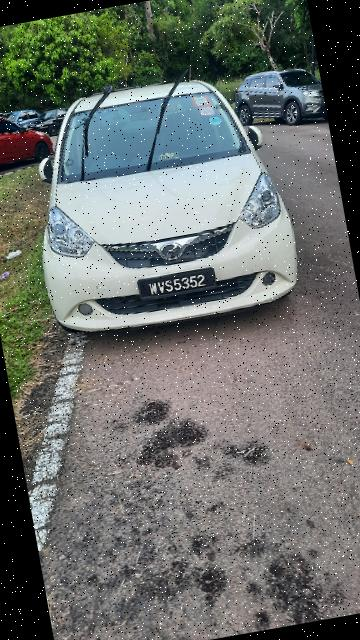License_Plate: (136, 265, 218, 304)
car: (16, 62, 308, 347)
